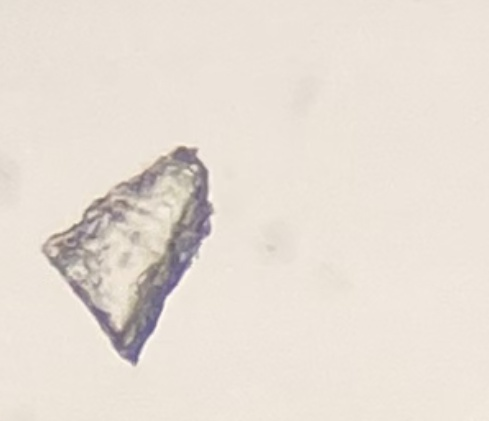microplastic: (42, 146, 215, 366)
